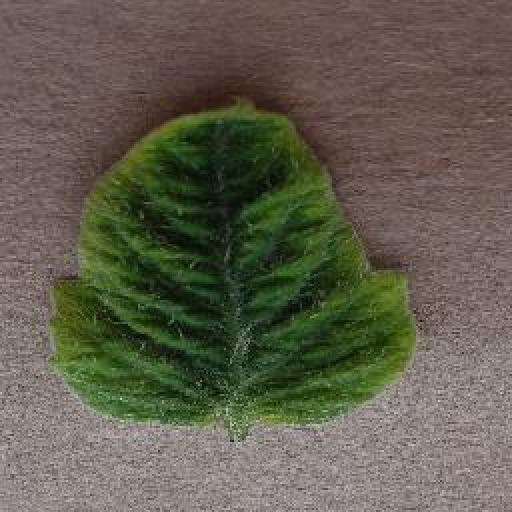Yellow Leaf Curl Virus: (50, 102, 413, 426)
